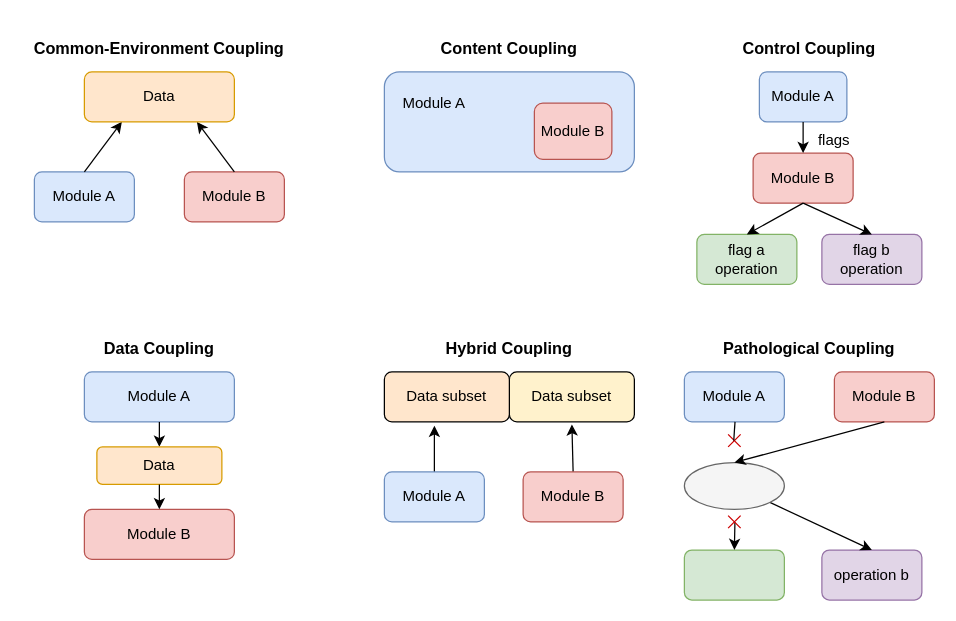
Some shapes in this 956 by 621 pixel diagram are drawn without their labels. The shapes that lost their labels are listed below. From the top down, each one's box as (x1, y1, x2, y2) in pixels, then its label:
(683, 461, 784, 509): execution path change
(683, 549, 784, 600): operation a
